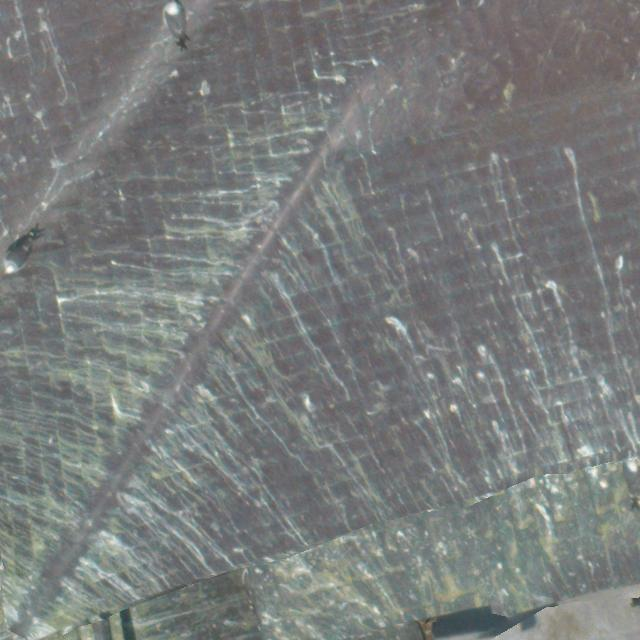umineko: (6, 243, 30, 271), (167, 3, 185, 36)
